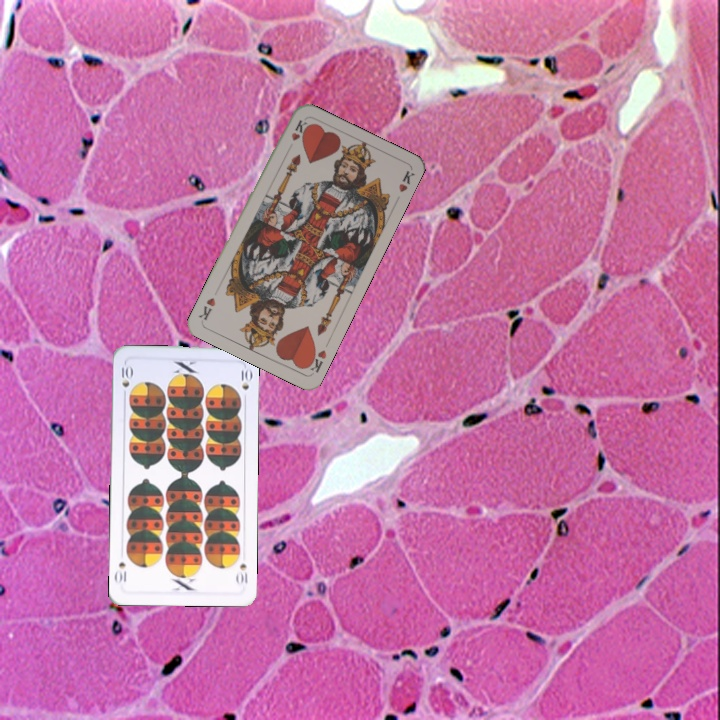HK: (302, 345, 329, 376), (287, 116, 309, 143)
S10: (118, 361, 133, 400), (233, 559, 250, 587)
